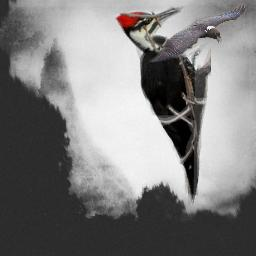Crow: (149, 3, 246, 63)
Woodpecker: (115, 5, 211, 211)
